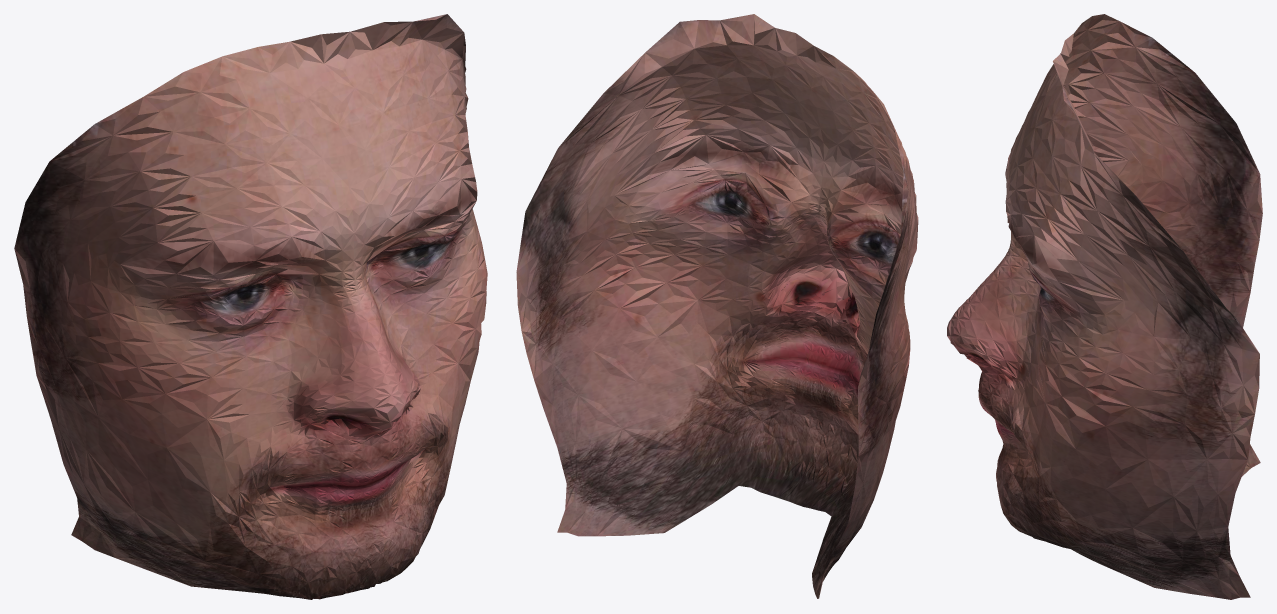
File: M1008_N_conf.obj
The picture shows the model from 3 angles, left to right: view 1: azimuth 30°, elevation 25°; view 2: azimuth 150°, elevation 25°; view 3: azimuth 270°, elevation 25°; orthographic projection. The views are drawn at different scales.
Visible parts, largest first — view 1: Object0; view 2: Object0; view 3: Object0.
Boxes of the visible parts, left/top/right/bottom form: Object0: left=14, top=14, right=487, bottom=599; Object0: left=516, top=14, right=918, bottom=598; Object0: left=947, top=14, right=1262, bottom=599.
Size of the model in its own units: 153 by 200 by 113.
1 material, 1 textured.
